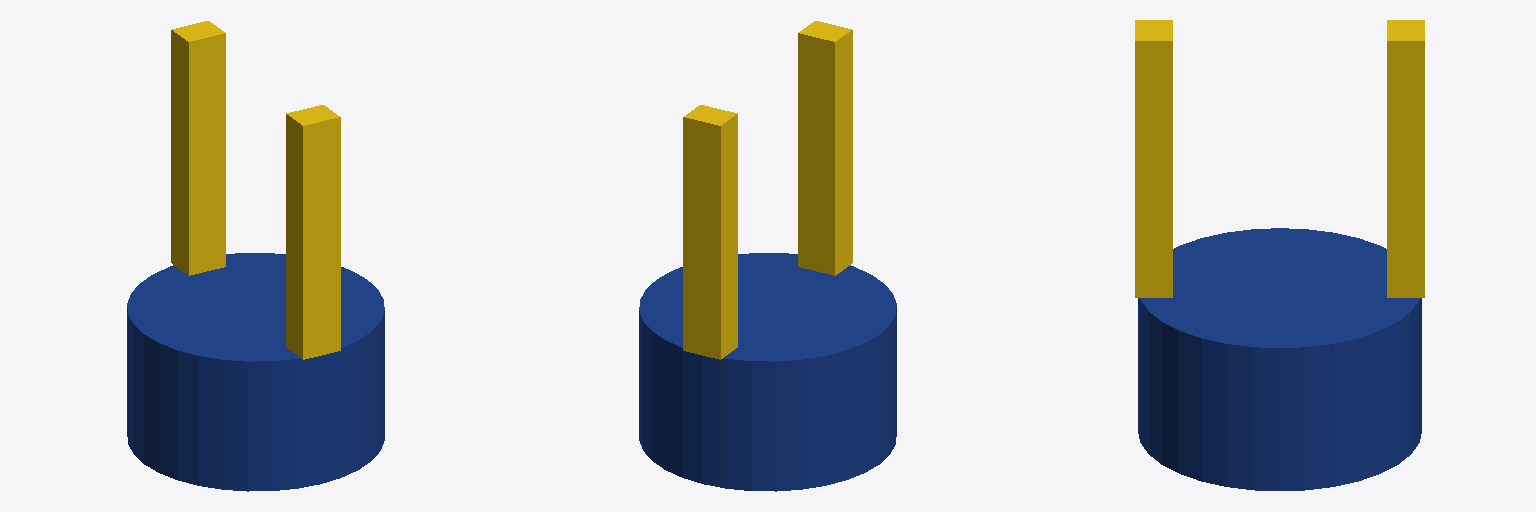
The robot description file, URDF, robot "angular_gripper":
<?xml version="1.0" ?>
<!--
  Angular two-finger gripper for the "Attach Angular Gripper" Objective.

  Two revolute fingers pivot toward each other about the base's x axis. The
  fingers are independent, so the gripper has two actuated joints.
  0 rad is fully open (fingers parallel, 68 mm gap), 0.38 rad is fully
  closed (fingertips about 2 mm apart).

  The root link is the mounting face: AddURDF places it at tool0.
  Geometry is primitives only, so the collision shapes AttachURDF uses are
  also what the tool looks like.

  The ros2_control block is what this tool's own driver would bring up.
  See the README's "Articulated tools with AttachURDF" section for what
  MoveIt Pro does with it.
-->
<robot name="angular_gripper">
  <material name="angular_gripper_blue">
    <color rgba="0.15 0.3 0.6 1" />
  </material>
  <material name="angular_gripper_yellow">
    <color rgba="0.95 0.8 0.1 1" />
  </material>

  <link name="angular_gripper_base">
    <visual>
      <origin xyz="0 0 0.025" rpy="0 0 0" />
      <geometry>
        <cylinder radius="0.045" length="0.05" />
      </geometry>
      <material name="angular_gripper_blue" />
    </visual>
    <collision>
      <origin xyz="0 0 0.025" rpy="0 0 0" />
      <geometry>
        <cylinder radius="0.045" length="0.05" />
      </geometry>
    </collision>
  </link>

  <link name="angular_gripper_left_finger">
    <visual>
      <origin xyz="0 0 0.045" rpy="0 0 0" />
      <geometry>
        <box size="0.015 0.012 0.09" />
      </geometry>
      <material name="angular_gripper_yellow" />
    </visual>
    <collision>
      <origin xyz="0 0 0.045" rpy="0 0 0" />
      <geometry>
        <box size="0.015 0.012 0.09" />
      </geometry>
    </collision>
  </link>

  <link name="angular_gripper_right_finger">
    <visual>
      <origin xyz="0 0 0.045" rpy="0 0 0" />
      <geometry>
        <box size="0.015 0.012 0.09" />
      </geometry>
      <material name="angular_gripper_yellow" />
    </visual>
    <collision>
      <origin xyz="0 0 0.045" rpy="0 0 0" />
      <geometry>
        <box size="0.015 0.012 0.09" />
      </geometry>
    </collision>
  </link>

  <!-- A positive angle turns each finger toward the centre line. -->
  <joint name="angular_gripper_left_finger_joint" type="revolute">
    <parent link="angular_gripper_base" />
    <child link="angular_gripper_left_finger" />
    <origin xyz="0 0.04 0.05" rpy="0 0 0" />
    <axis xyz="1 0 0" />
    <limit lower="0.0" upper="0.38" effort="10.0" velocity="1.0" />
  </joint>

  <joint name="angular_gripper_right_finger_joint" type="revolute">
    <parent link="angular_gripper_base" />
    <child link="angular_gripper_right_finger" />
    <origin xyz="0 -0.04 0.05" rpy="0 0 0" />
    <axis xyz="-1 0 0" />
    <limit lower="0.0" upper="0.38" effort="10.0" velocity="1.0" />
  </joint>

  <ros2_control name="angular_gripper" type="system">
    <hardware>
      <plugin>mock_components/GenericSystem</plugin>
    </hardware>
    <joint name="angular_gripper_left_finger_joint">
      <command_interface name="position">
        <param name="min">0.0</param>
        <param name="max">0.38</param>
      </command_interface>
      <state_interface name="position">
        <param name="initial_value">0.0</param>
      </state_interface>
      <state_interface name="velocity" />
    </joint>
    <joint name="angular_gripper_right_finger_joint">
      <command_interface name="position">
        <param name="min">0.0</param>
        <param name="max">0.38</param>
      </command_interface>
      <state_interface name="position">
        <param name="initial_value">0.0</param>
      </state_interface>
      <state_interface name="velocity" />
    </joint>
  </ros2_control>
</robot>

--- Render facts (derived) ---
3 views of the same robot in one strip: view 1: azimuth 30°, elevation 25°; view 2: azimuth 150°, elevation 25°; view 3: azimuth 270°, elevation 25° (orthographic).
Model angular_gripper with 3 links and 2 joints (2 revolute), rooted at angular_gripper_base, posed all joints at 0.
Links seen in each view (by area): view 1: angular_gripper_base, angular_gripper_left_finger, angular_gripper_right_finger; view 2: angular_gripper_base, angular_gripper_left_finger, angular_gripper_right_finger; view 3: angular_gripper_base, angular_gripper_left_finger, angular_gripper_right_finger.
Boxes of the visible links, bbox=[...] form: angular_gripper_base: bbox=[127, 253, 384, 491]; angular_gripper_left_finger: bbox=[171, 21, 225, 275]; angular_gripper_right_finger: bbox=[286, 105, 340, 359]; angular_gripper_base: bbox=[639, 253, 896, 491]; angular_gripper_left_finger: bbox=[683, 105, 737, 359]; angular_gripper_right_finger: bbox=[798, 21, 852, 275]; angular_gripper_base: bbox=[1138, 228, 1421, 490]; angular_gripper_left_finger: bbox=[1387, 20, 1424, 297]; angular_gripper_right_finger: bbox=[1135, 20, 1172, 297].
Size in the robot's own frame: 0.09 by 0.092 by 0.14 metres.
Geometry: primitives only (box / cylinder / sphere), no mesh files.
